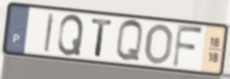F: (171, 23, 205, 70)
I: (43, 12, 56, 55)
O: (143, 22, 174, 66)
Q: (114, 18, 145, 64), (56, 13, 85, 57)
T: (90, 17, 114, 59)
